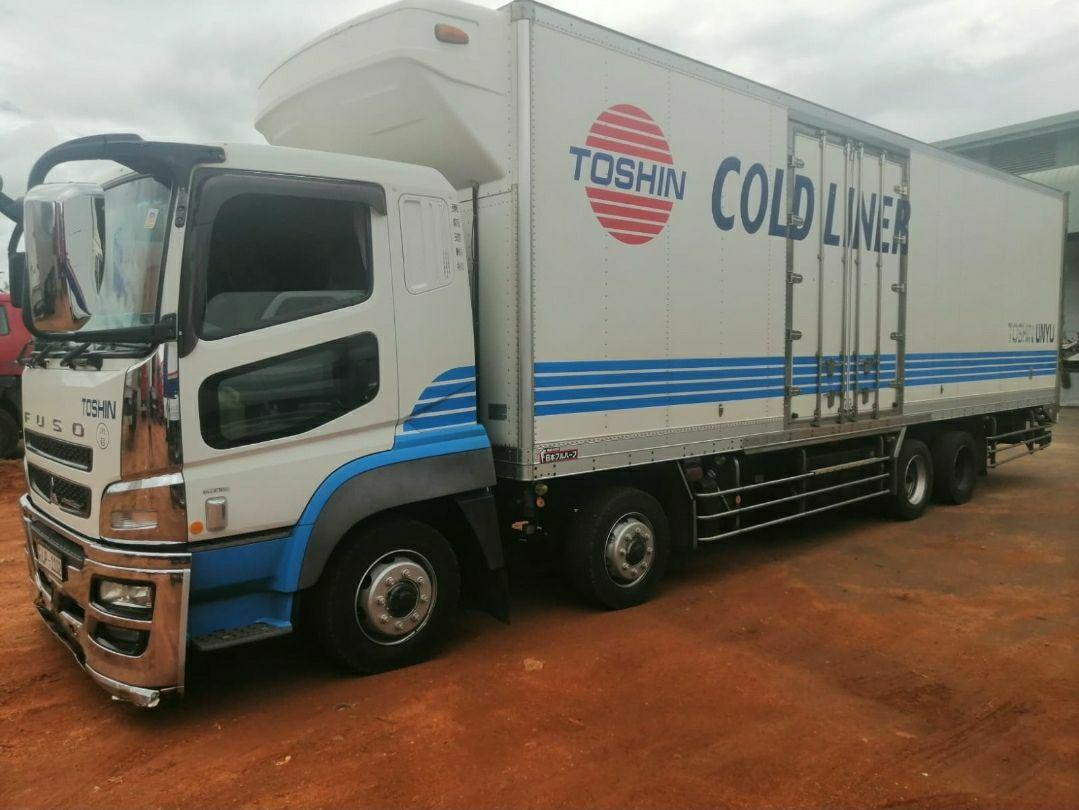truck: (18, 1, 1071, 705)
